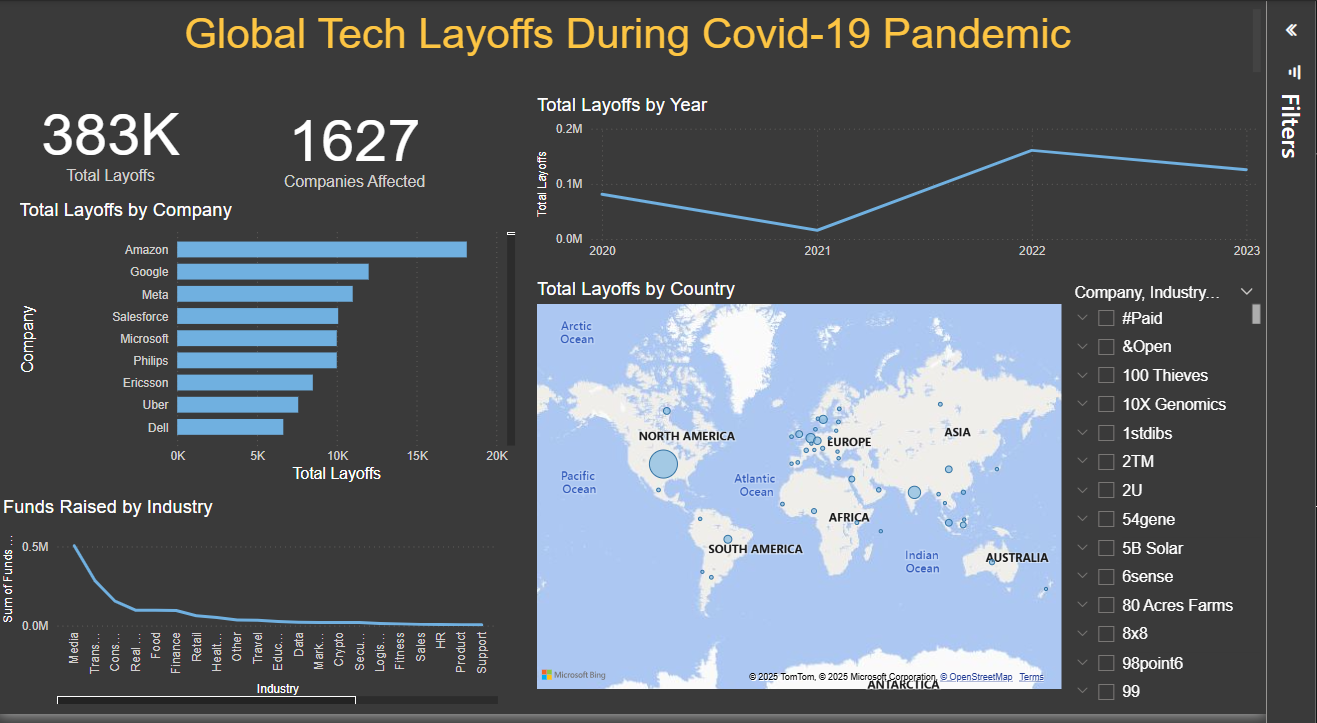

The page's visual inventory and layout, read from the dashboard file:
{"tool":"powerbi","page":{"name":"Overview","canvas":[1280,720],"ordinal":0},"visuals":[{"type":"card","fields":{"Values":["Layoffs_clean.Total Layoffs"]},"box":[0,77.2,227.1,122.7],"z":0},{"type":"card","fields":{"Values":["Layoffs_clean.Companies Affected"]},"box":[227.1,77.2,265,134.8],"z":1000},{"type":"lineChart","fields":{"Category":["Layoffs_clean.Date.Variation.Date Hierarchy.Year","Layoffs_clean.Date.Variation.Date Hierarchy.Quarter","Layoffs_clean.Date.Variation.Date Hierarchy.Month","Layoffs_clean.Date.Variation.Date Hierarchy.Day"],"Y":["Layoffs_clean.Total Layoffs"]},"box":[539.1,93.9,740.4,174.1],"z":2000},{"type":"barChart","fields":{"Category":["Layoffs_clean.Company"],"Y":["Layoffs_clean.Total Layoffs"]},"box":[16.7,199.9,510.3,290.7],"z":3000},{"type":"map","fields":{"Category":["Layoffs_clean.Country"],"Size":["Layoffs_clean.Total Layoffs"]},"box":[539.1,280.1,546.6,419.4],"z":4000},{"type":"slicer","title":"Filter","fields":{"Values":["Layoffs_clean.Company","Layoffs_clean.Industry","Layoffs_clean.Year"]},"box":[1073.6,280.1,205.9,439.1],"z":5000},{"type":"lineChart","title":"Funds Raised by Industry","fields":{"Category":["Layoffs_clean.Industry"],"Y":["Sum(Layoffs_clean.Funds Raised ($M))"]},"box":[0,499.7,510.3,215],"z":6000},{"type":"textbox","box":[0,3,1279.5,74.2],"z":6001}]}

Visuals, with their boxes on the page's 1280x720 design canvas (x1, y1, x2, y2). These are canvas units, not pixel positions in the 1317x723 screenshot, which may show the page scaled, cropped or inside an application window:
card - Layoffs_clean.Total Layoffs: rect(0, 77, 227, 200)
card - Layoffs_clean.Companies Affected: rect(227, 77, 492, 212)
lineChart - Layoffs_clean.Date.Variation.Date Hierarchy.Year x Layoffs_clean.Date.Variation.Date Hierarchy.Quarter: rect(539, 94, 1280, 268)
barChart - Layoffs_clean.Company x Layoffs_clean.Total Layoffs: rect(17, 200, 527, 491)
map - Layoffs_clean.Country x Layoffs_clean.Total Layoffs: rect(539, 280, 1086, 700)
"Filter" slicer: rect(1074, 280, 1280, 719)
"Funds Raised by Industry" lineChart: rect(0, 500, 510, 715)
textbox: rect(0, 3, 1280, 77)
